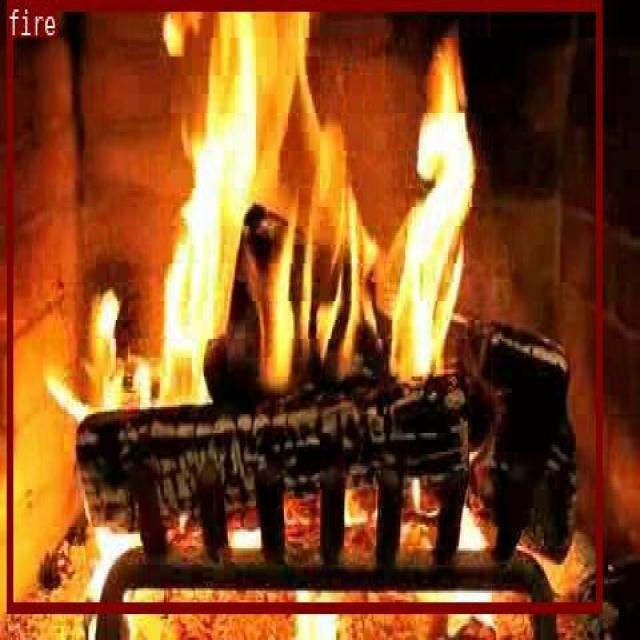fire: (6, 0, 601, 612)
